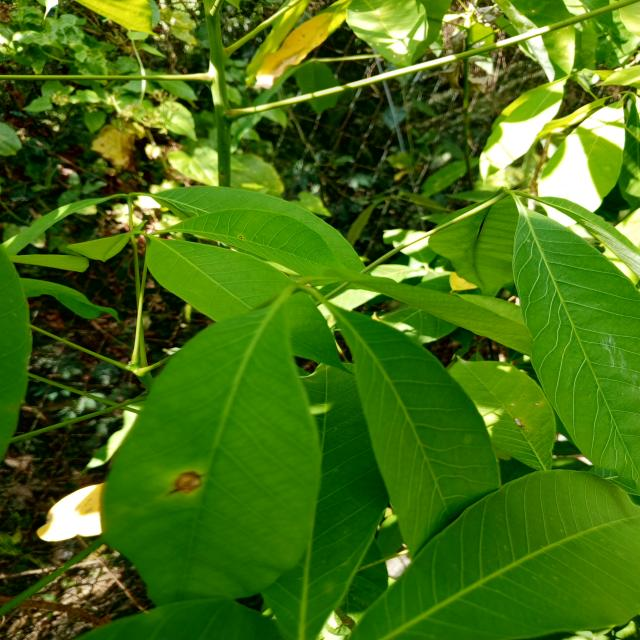Colletotrichum: (239, 236, 242, 239), (544, 454, 548, 456)
Leaf-Blight: (514, 418, 521, 426)
